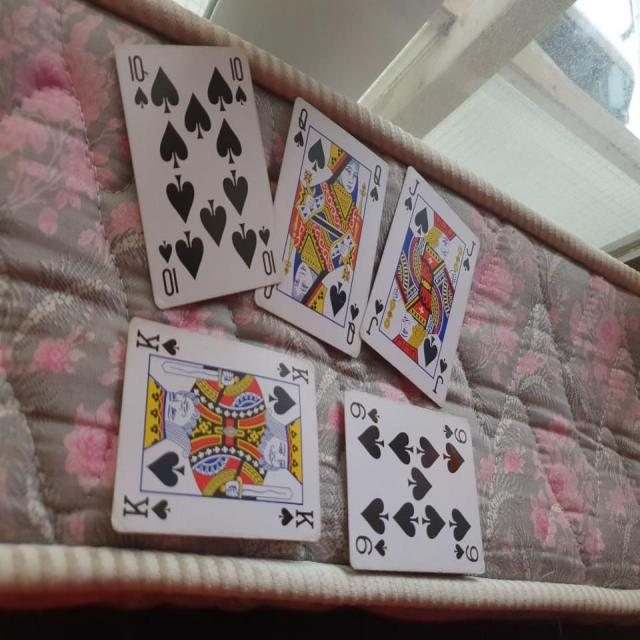10 Spades: (107, 33, 282, 316)
9 Spades: (342, 378, 495, 581)
J Spades: (364, 154, 480, 412)
K Spades: (104, 313, 325, 560)
Q Spades: (253, 87, 388, 360)
